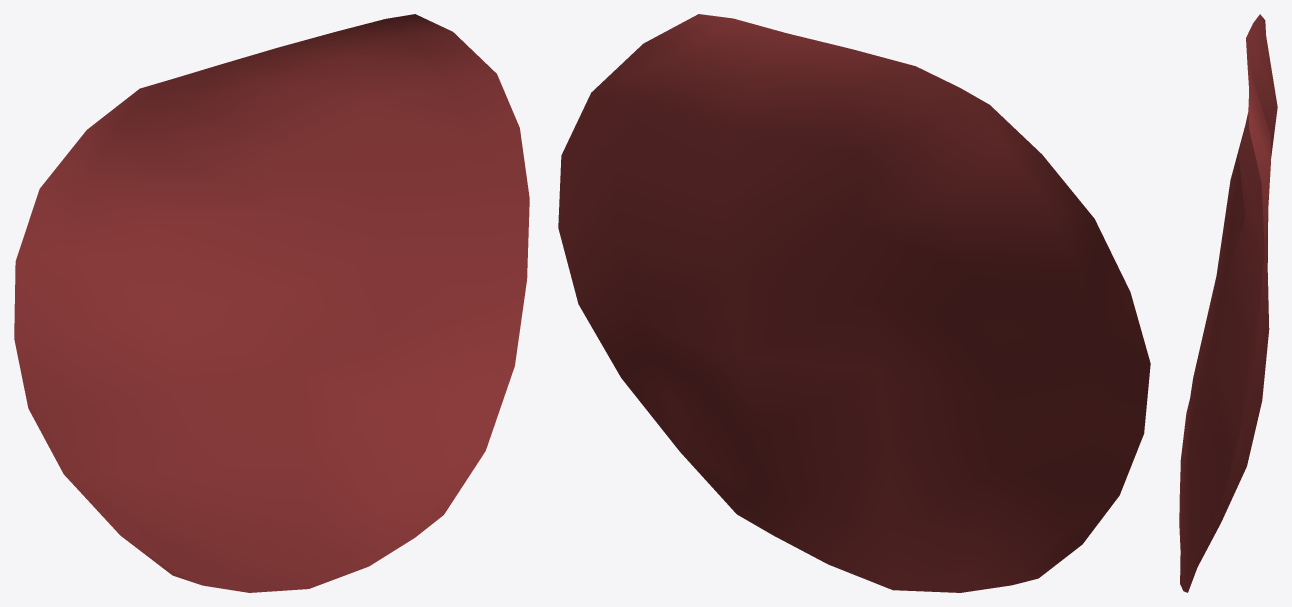
File: deep-infrapatellar-bursa-l.glb
The picture shows the model from 3 angles, left to right: view 1: azimuth 30°, elevation 25°; view 2: azimuth 150°, elevation 25°; view 3: azimuth 270°, elevation 25°; orthographic projection. The views are drawn at different scales.
Visible parts, largest first — view 1: Deep infrapatellar bursa.l; view 2: Deep infrapatellar bursa.l; view 3: Deep infrapatellar bursa.l.
Part boxes in pixels (x1=…): Deep infrapatellar bursa.l: x1=14, y1=14, x2=529, y2=592; Deep infrapatellar bursa.l: x1=558, y1=14, x2=1150, y2=592; Deep infrapatellar bursa.l: x1=1179, y1=14, x2=1277, y2=592.
Bounding box in the file's own units: 0.0176 × 0.0166 × 0.00293.
